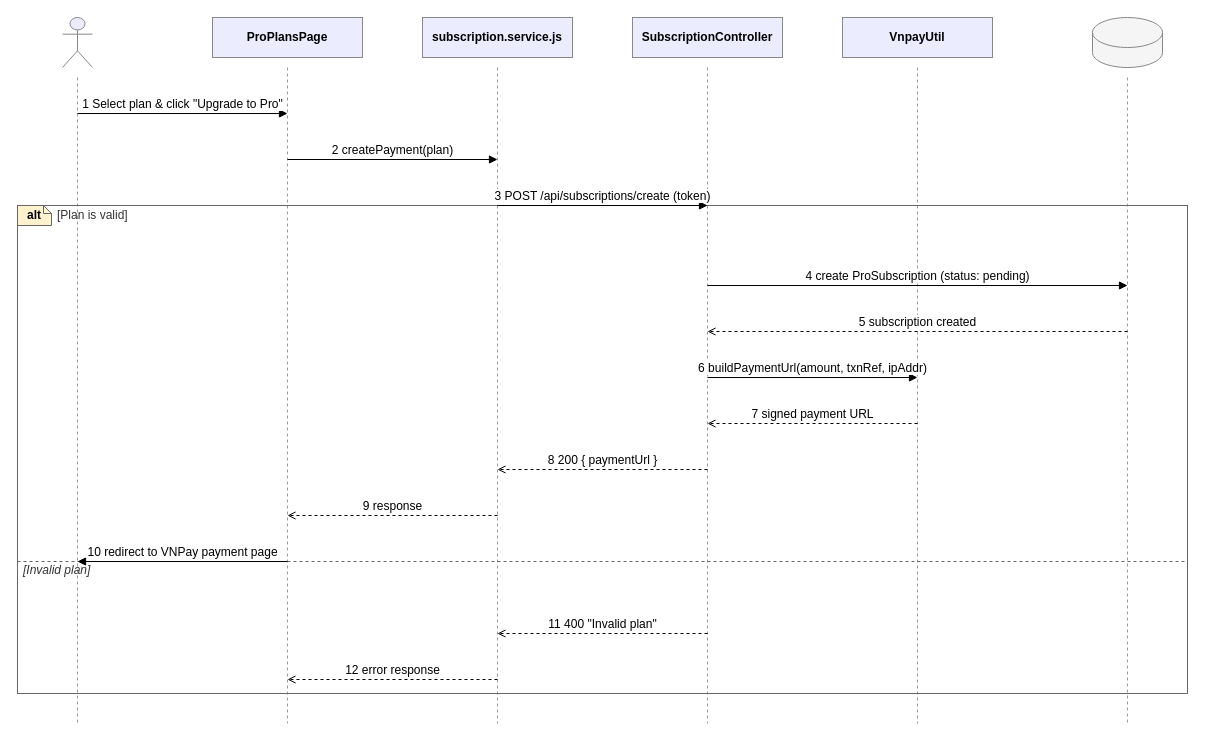
This 1206x742 diagram has some shape labels left out. The shapes that lost their labels are listed below. From the top down, each one's centre as x and y in pixels, then its label:
At pixel 77 42: "User".
At pixel 1127 42: "MongoDB".
